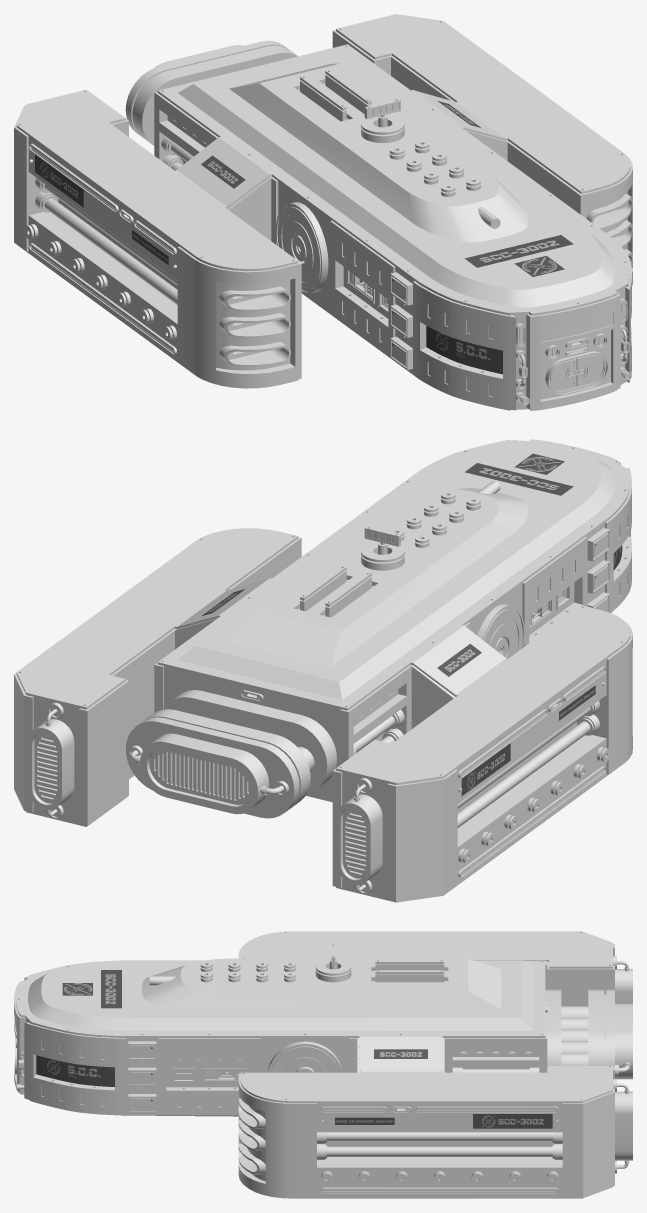
The model's file is ShipV1.fbx.
3 views of the same model, one above another, from view 1: azimuth 30°, elevation 25°; view 2: azimuth 150°, elevation 25°; view 3: azimuth 270°, elevation 25° (orthographic). The views are drawn at different scales.
Visible parts, largest first — view 1: Ship, ShipCargoDoor, ShipRadar; view 2: Ship; view 3: Ship.
Boxes of the visible parts, box(x1,y1,x2,y2) form: Ship: box(14, 14, 632, 410); ShipCargoDoor: box(549, 354, 604, 391); ShipRadar: box(364, 99, 400, 127); Ship: box(14, 439, 632, 902); Ship: box(14, 931, 632, 1198).
Size of the model in its own units: 104 by 45.77 by 156.
